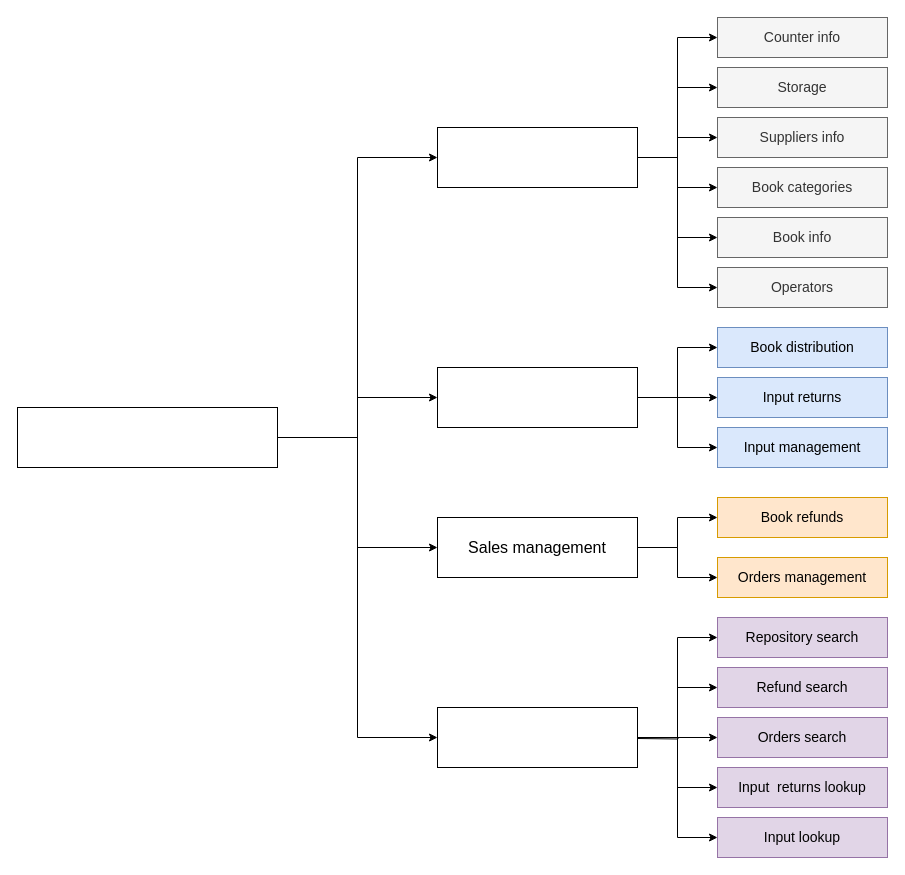
The diagram is 905 pixels wide and 875 high, and some of its shapes have lost their labels. Each missing label, with the box of its shape:
Basic information: (436, 126, 638, 188)
Library_Management_system: (16, 406, 278, 468)
Repository management: (436, 366, 638, 428)
Search function: (436, 706, 638, 768)
